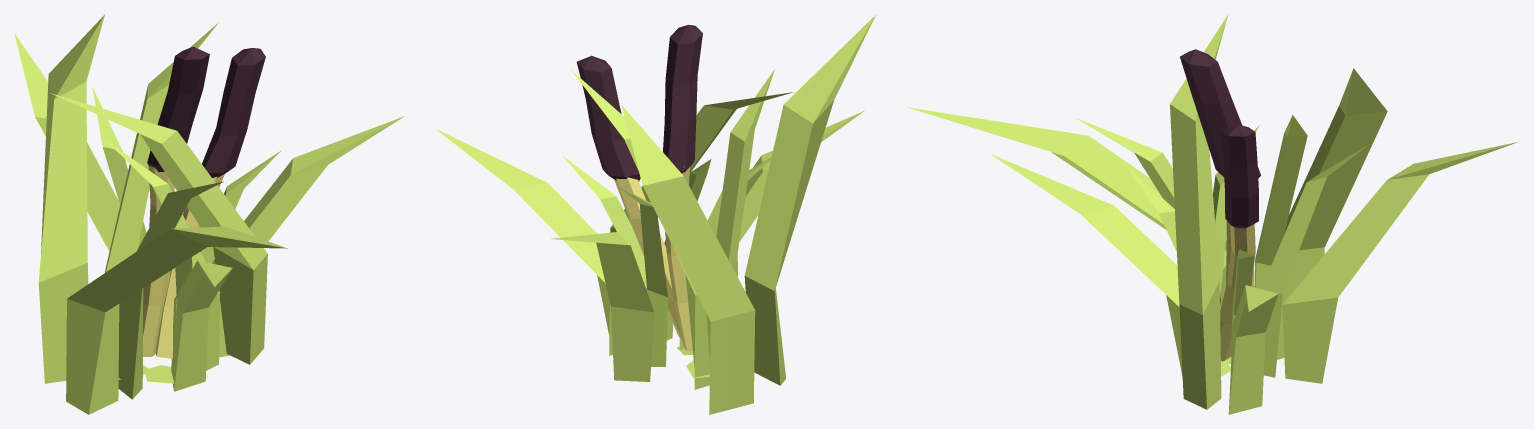
File: kamysh2.fbx
3 views of the same model, side by side, from view 1: azimuth 30°, elevation 25°; view 2: azimuth 150°, elevation 25°; view 3: azimuth 270°, elevation 25° (orthographic). The views are drawn at different scales.
Visible parts, largest first — view 1: Cone.007; view 2: Cone.007; view 3: Cone.007.
Boxes of the visible parts, <box> form: Cone.007: <box>14,14,404,414</box>; Cone.007: <box>436,15,875,414</box>; Cone.007: <box>907,14,1517,414</box>.
Bounding box in the file's own units: 62.32 × 55.85 × 90.67.
